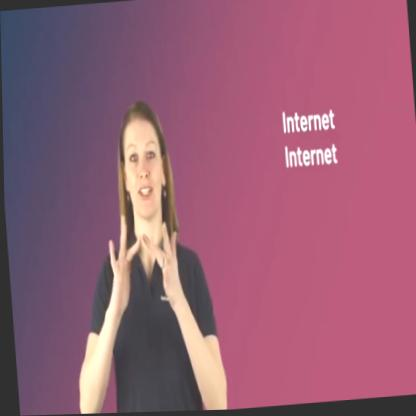Internet: (103, 208, 180, 322)
